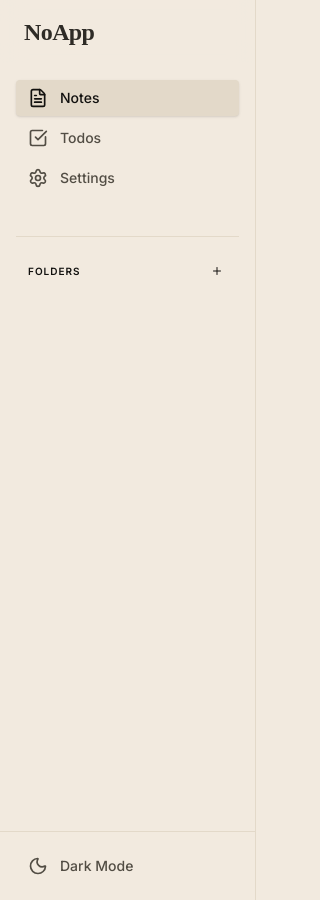
Sidebar Component › should allow switching modules
Click the button "Todos".
click(128, 138)  # box [16, 120, 239, 156]
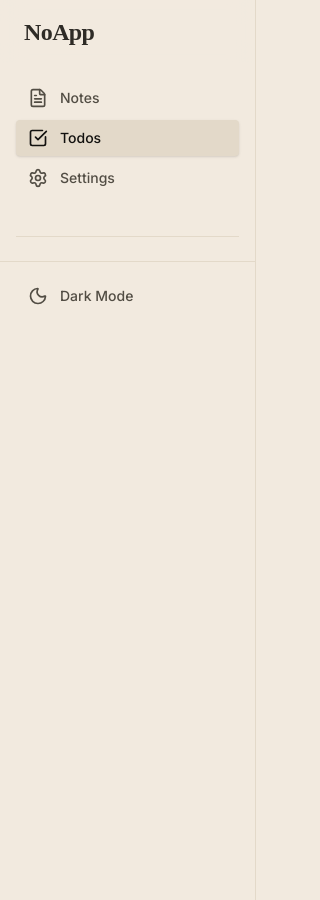
Expected: the text "Folders" is gone
